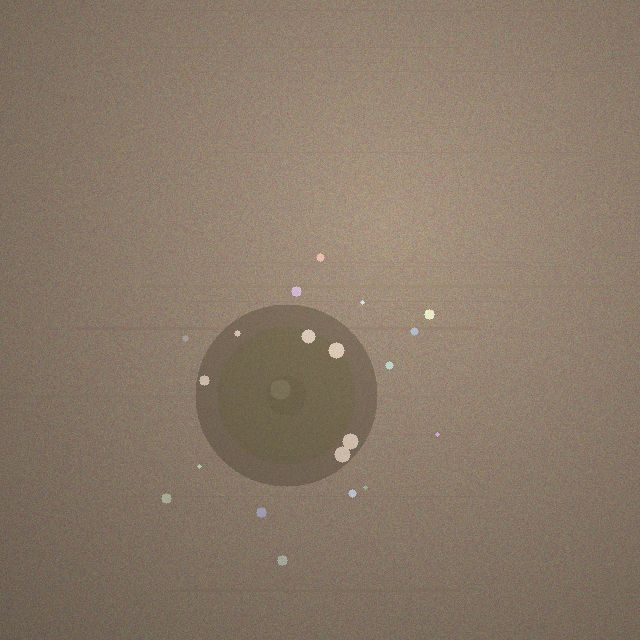overburn: (195, 304, 377, 486)
